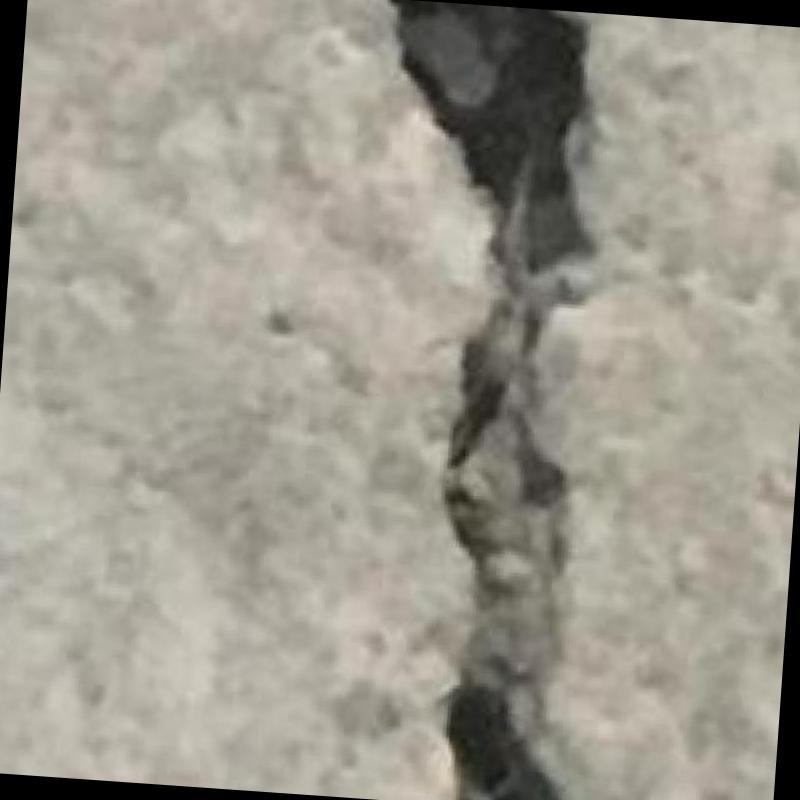pothole: (391, 0, 598, 800)
